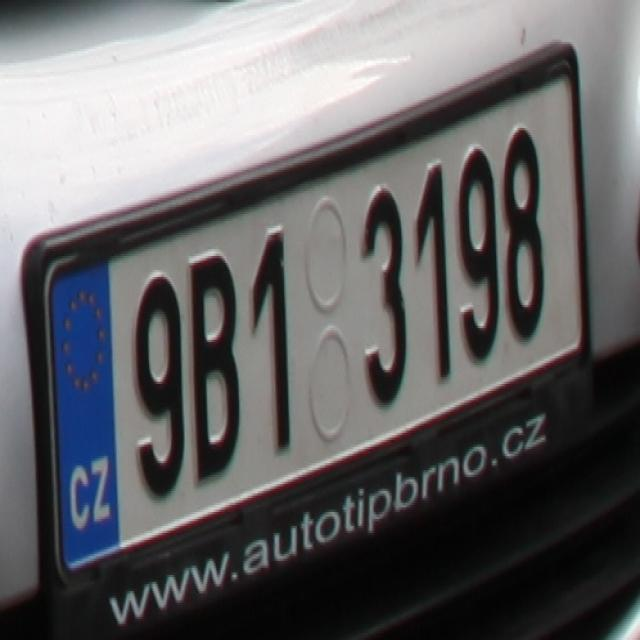1: (251, 216, 298, 461), (412, 154, 452, 384)
3: (360, 188, 410, 412)
8: (500, 121, 546, 349)
9: (134, 268, 184, 500), (457, 147, 500, 363)
B: (188, 245, 239, 480)
